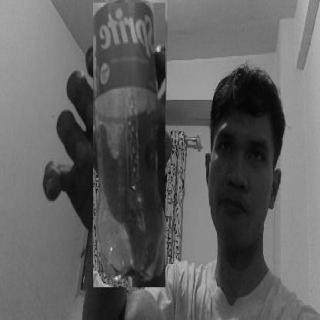plastic_bottles: (93, 3, 165, 286)
